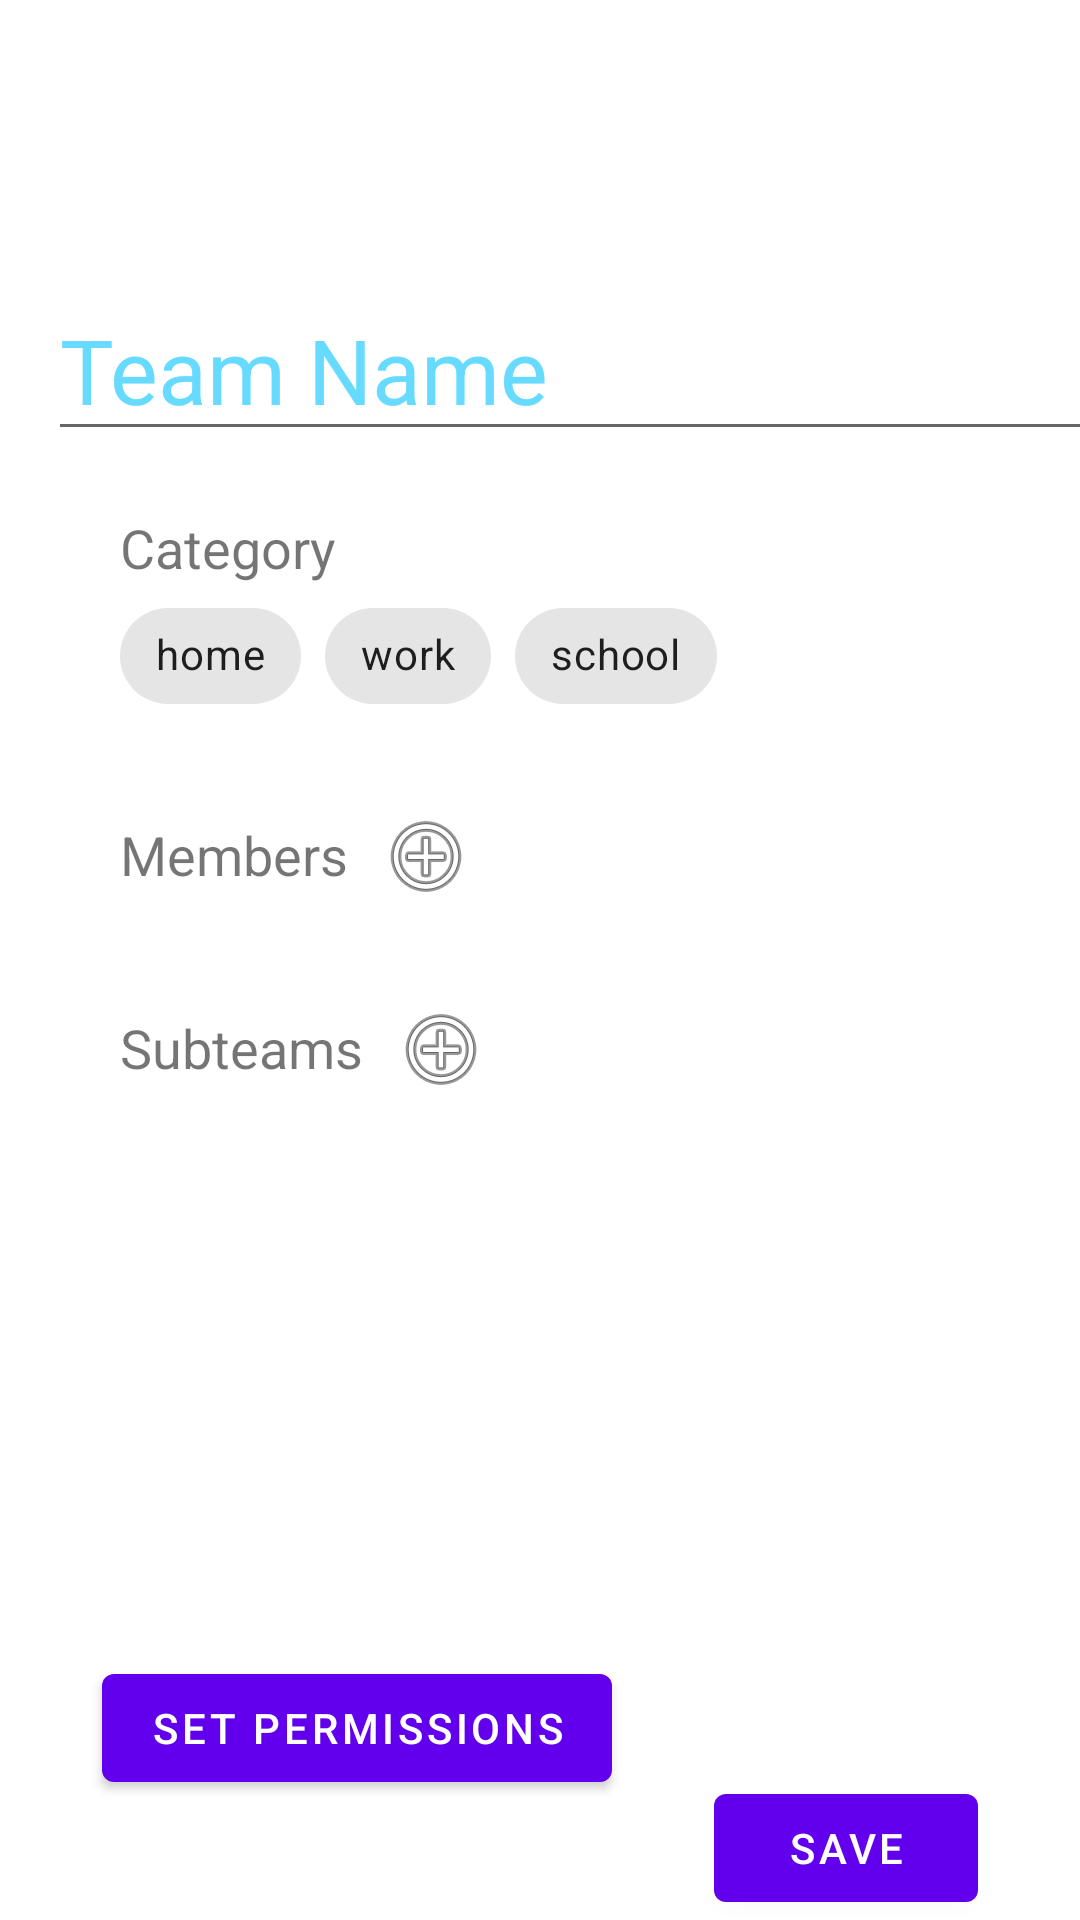

Point at icon controls on the screen. Image size 1080*1920, points as [x,y].
add: [426,856], [441,1049]
